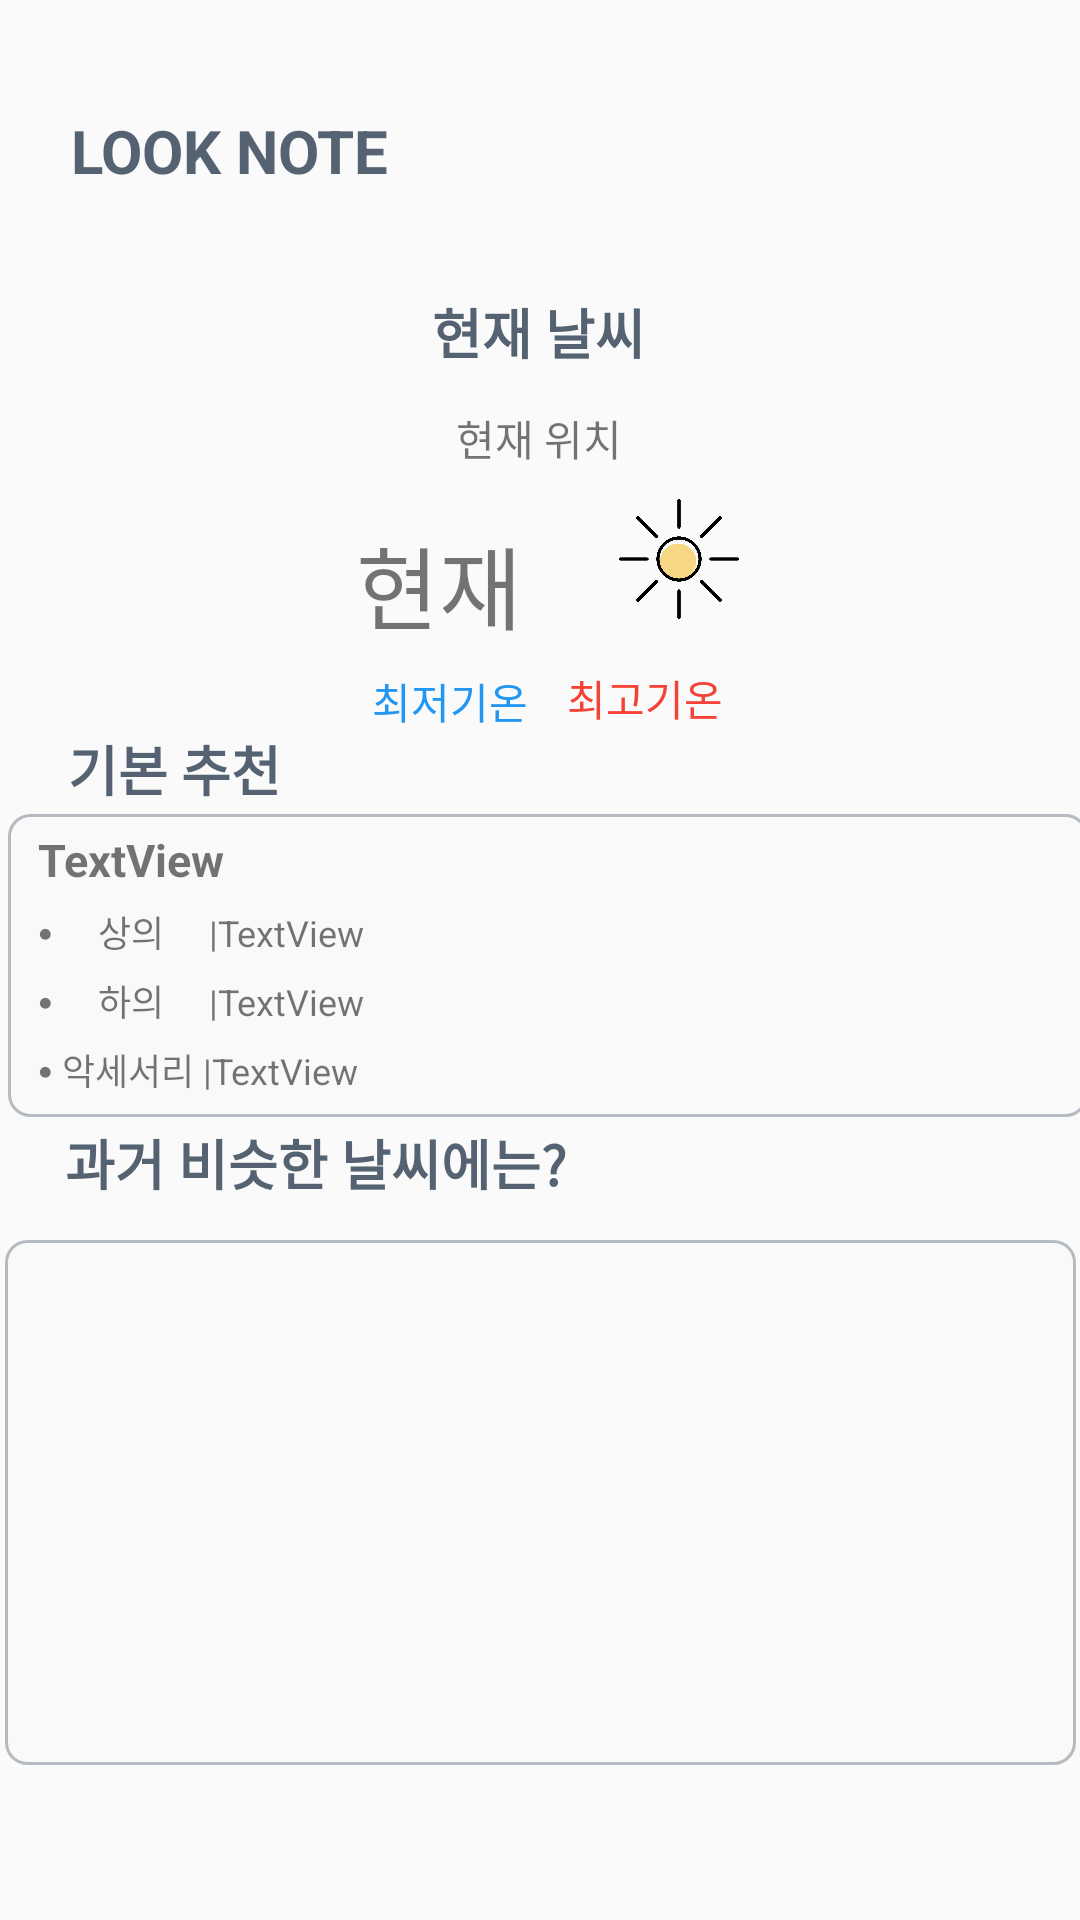

Where icons sit on this 1080*1920 app screen, as [left=x1, top=y1, right=x2, bottom=y2]:
sunny: [left=619, top=499, right=739, bottom=619]
